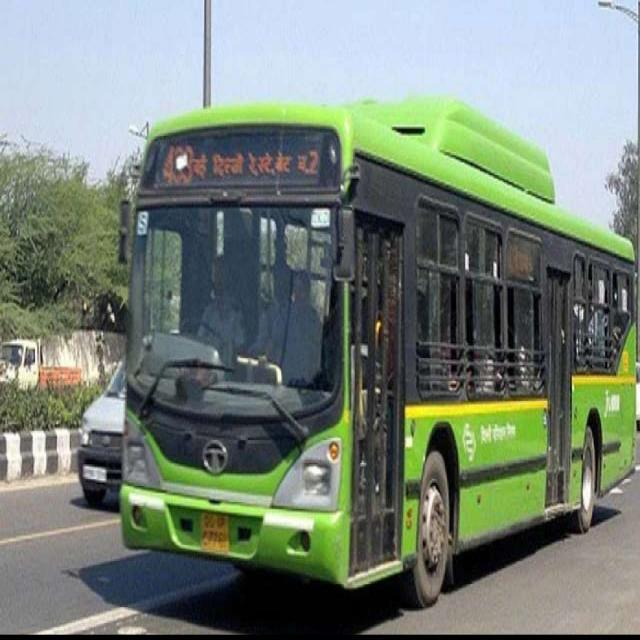bus: (124, 100, 638, 594)
